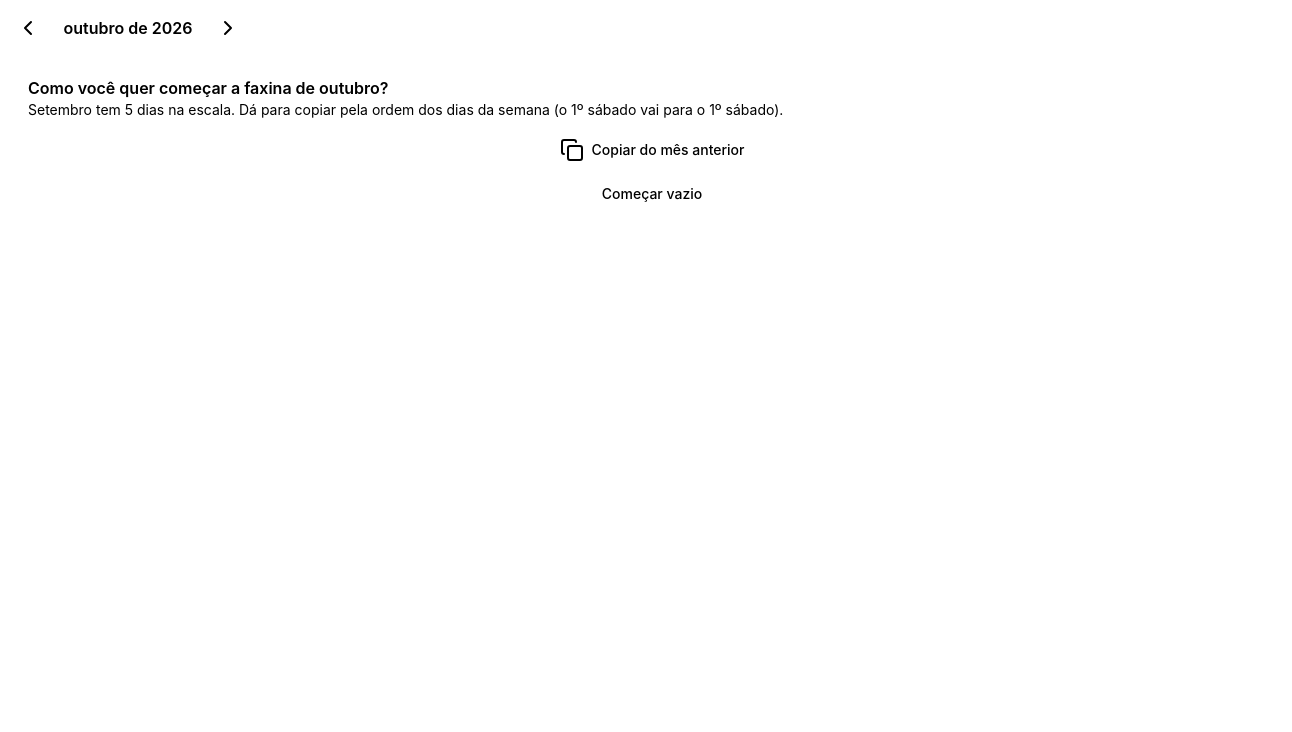
mês sem escala oferece copiar do mês anterior ou começar vazio
This screenshot has width=1292, height=732.
Check: the text "tem 5 dias na escala" is shown, box [28, 101, 783, 118]
Step 1. Click the button "Copiar do mês anterior" → (652, 150), box [28, 132, 1276, 168]
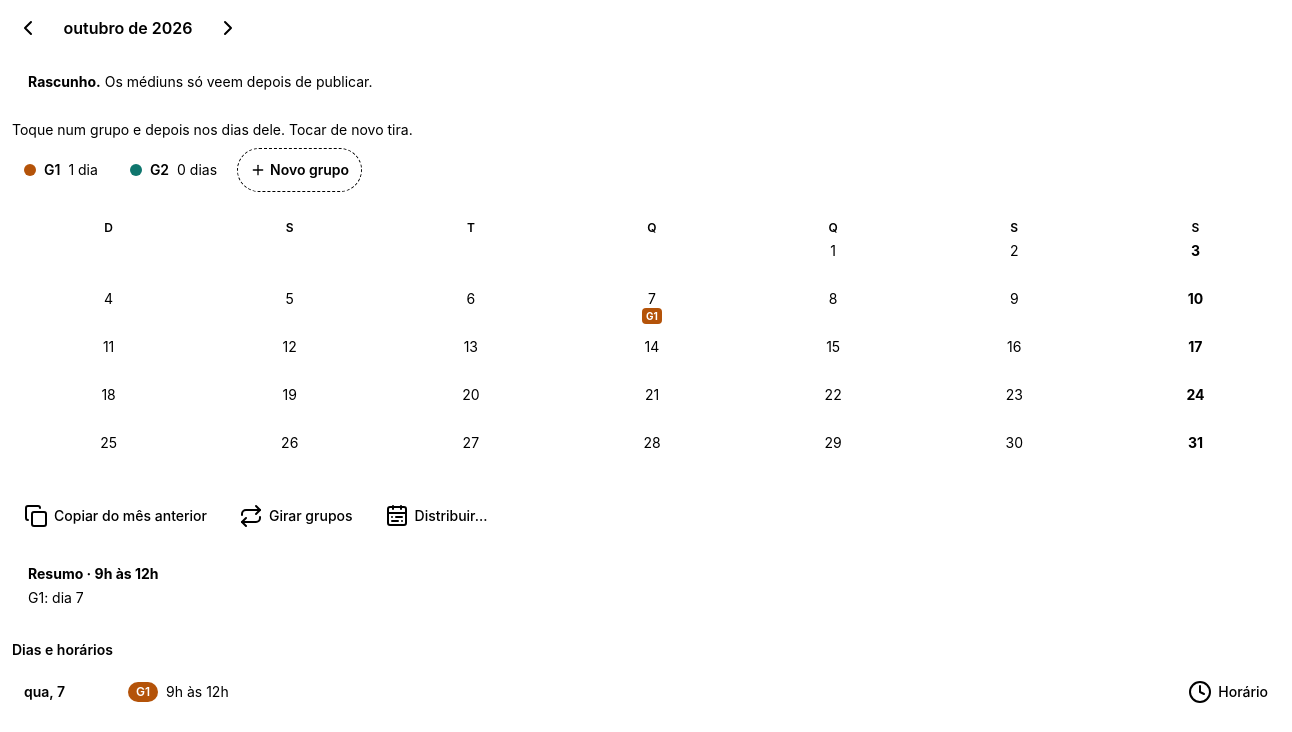
Check: the element with test id "escala-resumo" shows "G1: dia 7", box [28, 589, 84, 606]
